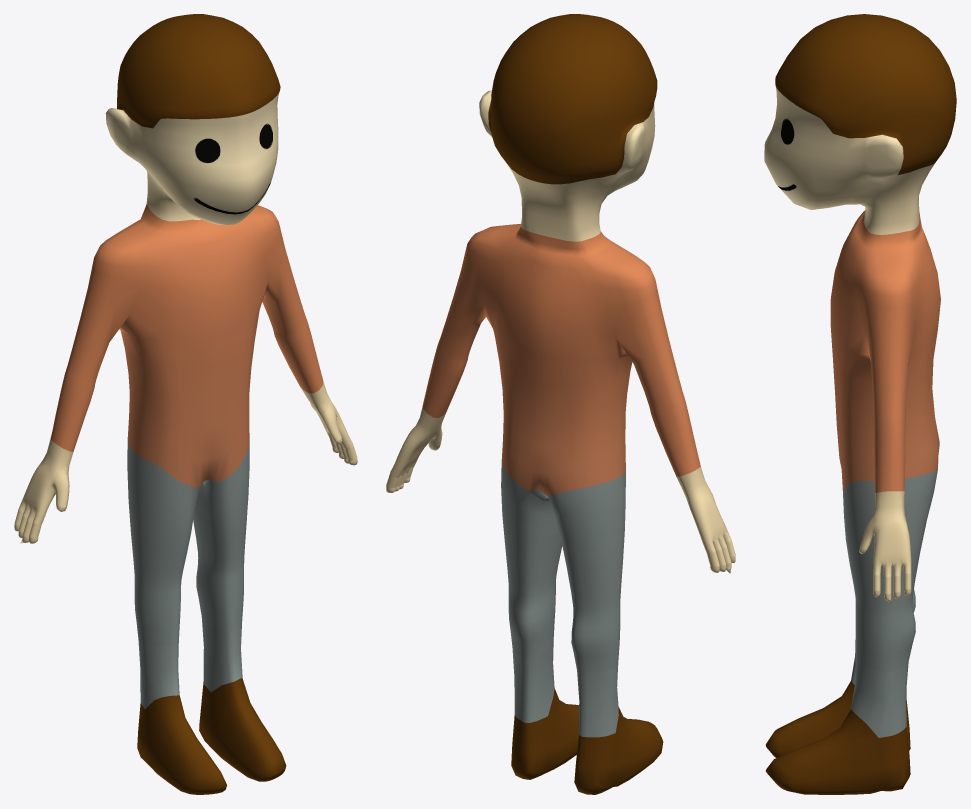
Rendered from Cartoon-Anime-Player.fbx.
3 renders of one model, left to right at view 1: azimuth 30°, elevation 25°; view 2: azimuth 150°, elevation 25°; view 3: azimuth 270°, elevation 25°, orthographic.
Visible parts, largest first — view 1: Torso; view 2: Torso; view 3: Torso.
Part boxes in pixels (bbox=[...]): Torso: bbox=[14, 14, 357, 794]; Torso: bbox=[386, 14, 735, 794]; Torso: bbox=[764, 14, 956, 794].
Bounding box in the file's own units: 364 × 769 × 179.
